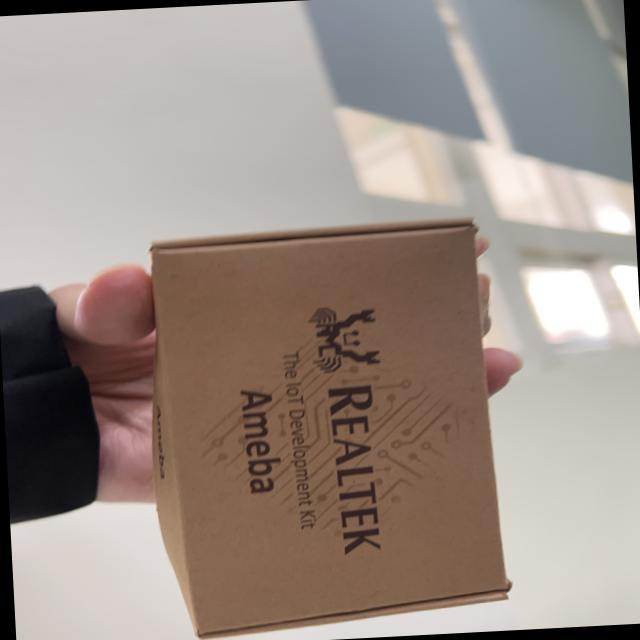box: (120, 206, 529, 640)
